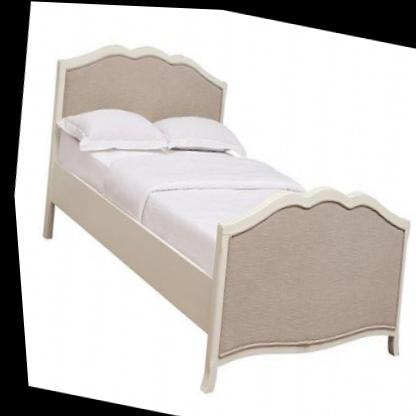Bed: (7, 25, 416, 416)
